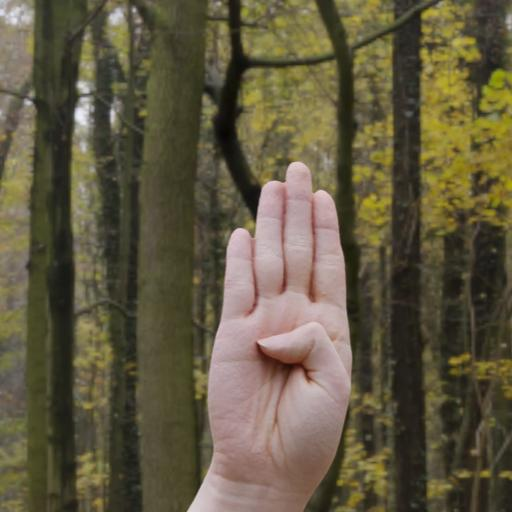B: (197, 157, 370, 512)
